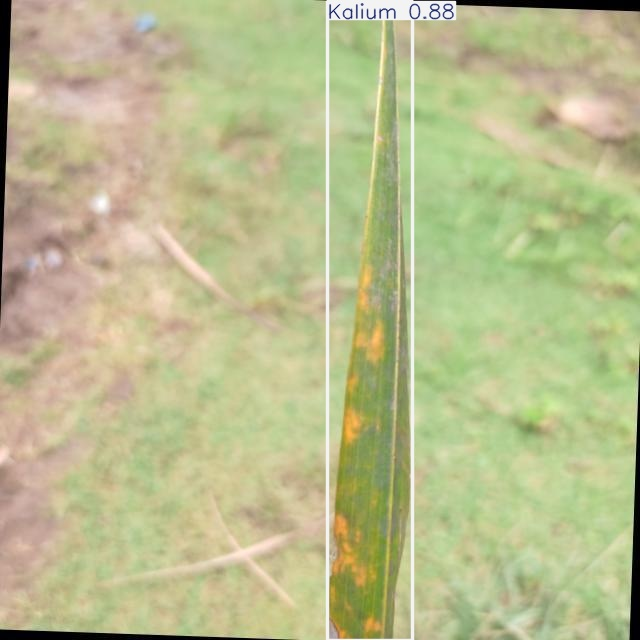Kalium: (327, 2, 413, 640)
